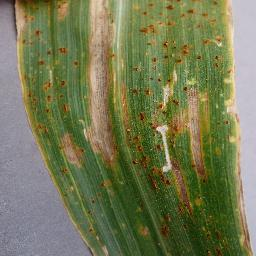Gray_Leaf_Spot: (13, 0, 247, 167), (135, 167, 256, 256), (59, 191, 103, 215), (68, 216, 101, 244), (45, 169, 76, 192), (81, 246, 113, 256), (96, 178, 118, 190)
